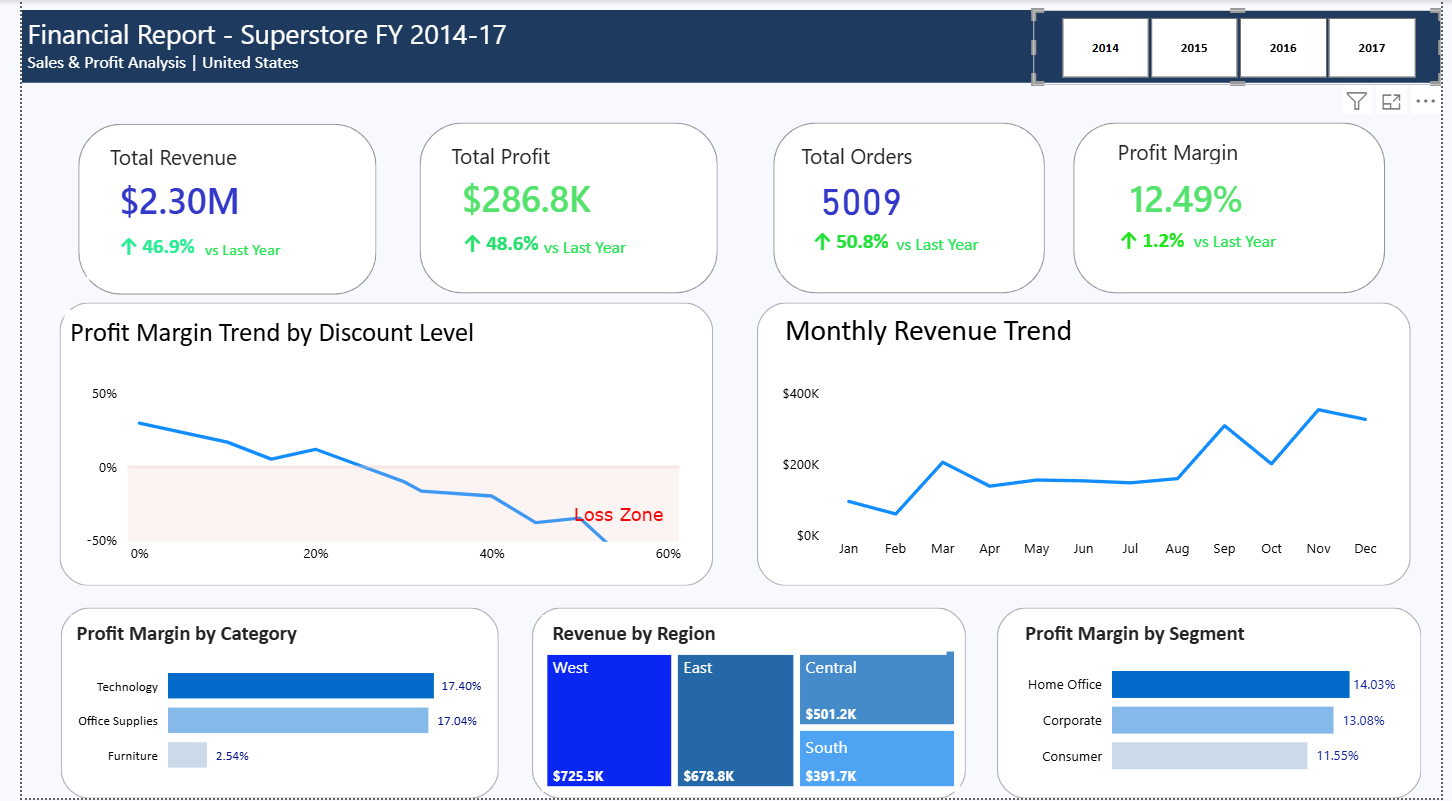

Layout of this report page (visuals, bound fields, positions):
{"tool":"powerbi","page":{"name":"Page 1","canvas":[1280,720],"ordinal":0},"visuals":[{"type":"textbox","box":[0,9,1280.4,65.4],"z":0},{"type":"shape","box":[358.6,110.5,269,154.1],"z":0,"group":"g2"},{"type":"shape","box":[677.1,110.5,245,154.1],"z":0,"group":"g4"},{"type":"shape","box":[948,110.5,281.3,154.1],"z":0,"group":"g3"},{"type":"shape","box":[50.8,111.6,269,154.1],"z":0,"group":"g1"},{"type":"shape","box":[33.7,272.8,589.4,255.6],"z":0,"group":"g6"},{"type":"shape","box":[662.9,272.8,589.4,255.6],"z":0,"group":"g5"},{"type":"slicer","title":"Year","fields":{"Values":["date_table.Year"]},"box":[1169,10.1,110.5,67.4],"z":1000,"group":"g7"},{"type":"textbox","box":[983.1,120.1,195.7,52.6],"z":1000,"group":"g3"},{"type":"textbox","box":[381.8,122.7,195.7,52.6],"z":1000,"group":"g2"},{"type":"textbox","box":[698.2,122.7,178.2,52.6],"z":1000,"group":"g4"},{"type":"textbox","box":[74,123.8,195.7,52.6],"z":1000,"group":"g1"},{"type":"group","id":"g1","title":"Group 1","box":[50.8,111.6,269.4,153.3],"z":5000},{"type":"group","id":"g2","title":"Group 1","box":[358.6,110.5,269,154.1],"z":6000},{"type":"lineChart","title":"Monthly Revenue Trend","fields":{"Category":["Sample - Superstore.Discount"],"Y":["Measure.Profit_margin%"]},"box":[52.3,340.4,546.6,177.3],"z":6000,"group":"g6"},{"type":"lineChart","title":"Monthly Revenue Trend","fields":{"Category":["date_table.Month_name"],"Y":["Measure.Total_Revenue"]},"box":[680.4,340.7,552.7,172.4],"z":6000,"group":"g5"},{"type":"group","id":"g3","title":"Group 1","box":[948,110.5,281.3,154.1],"z":7000},{"type":"group","id":"g4","title":"Group 1","box":[661.7,110.5,260.3,154.1],"z":8000},{"type":"group","id":"g5","title":"Group 2","box":[662.9,272.8,589.4,255.6],"z":9000},{"type":"cardVisual","fields":{"Data":["Measure.Profit_margin% KPI Text"]},"box":[960.8,184.9,131.4,61.6],"z":9500,"group":"g3"},{"type":"cardVisual","fields":{"Data":["Measure.order% KPI Text"]},"box":[683.8,186.1,137.2,61.6],"z":9500,"group":"g4"},{"type":"cardVisual","fields":{"Data":["Measure.Profit% KPI Text"]},"box":[368.4,188.8,150.4,61.1],"z":9500,"group":"g2"},{"type":"cardVisual","fields":{"Data":["Measure.Profit KPI Text"]},"box":[58.9,190.7,151.2,61.6],"z":9500,"group":"g1"},{"type":"group","id":"g6","title":"Group 2","box":[33.7,272.8,589.4,255.6],"z":10000},{"type":"textbox","box":[493,448.8,103.5,30.2],"z":11000},{"type":"cardVisual","fields":{"Data":["Measure.Profit_margin%"]},"box":[956.2,143.3,188.3,68.5],"z":12000,"group":"g3"},{"type":"cardVisual","fields":{"Data":["Measure.Total_Profit"]},"box":[361,143.5,188.3,68.5],"z":12000,"group":"g2"},{"type":"cardVisual","fields":{"Data":["Measure.Total_Revenue"]},"box":[58.1,145.8,188.3,68.5],"z":12000,"group":"g1"},{"type":"card","fields":{"Values":["Measure.Total_order"]},"box":[661.7,148.3,189.5,61.1],"z":12000,"group":"g4"},{"type":"shape","box":[35.5,547.8,395,172.4],"z":12000},{"type":"textbox","box":[1051.5,202.4,108.1,33.7],"z":13000,"group":"g3"},{"type":"textbox","box":[784,204.7,105.2,37.9],"z":13000,"group":"g4"},{"type":"textbox","box":[466.2,208.3,107.6,34.2],"z":13000,"group":"g2"},{"type":"textbox","box":[159.6,210.6,107.6,34.2],"z":13000,"group":"g1"},{"type":"shape","box":[459.8,547.6,391.3,172.4],"z":13000},{"type":"shape","box":[879.2,547.8,382.7,172.4],"z":14000},{"type":"barChart","fields":{"Category":["Sample - Superstore.Category"],"Y":["Measure.Profit_margin%"]},"box":[42.8,582.1,376.6,129.6],"z":14001},{"type":"textbox","box":[683.4,276.4,292.3,55],"z":14002,"group":"g5"},{"type":"textbox","box":[37.9,280,393.8,41.6],"z":14002},{"type":"treemap","fields":{"Group":["Sample - Superstore.Region"],"Values":["Measure.Total_Revenue"]},"box":[468.6,582.6,376.7,131.4],"z":14003},{"type":"barChart","fields":{"Category":["Sample - Superstore.Segment"],"Y":["Measure.Profit_margin%"]},"box":[896.5,579.1,347.7,133.7],"z":14004},{"type":"textbox","box":[900,554.7,300,36],"z":14005},{"type":"textbox","box":[44.2,554.7,300,36],"z":14006},{"type":"textbox","box":[468.6,554.7,365.1,36],"z":14007},{"type":"slicer","title":"State","fields":{"Values":["Sample - Superstore.State"]},"box":[1057.4,10.1,111.6,67.4],"z":14008,"group":"g7"},{"type":"group","id":"g7","title":"Group 3","box":[1057.4,10.1,222.1,67.4],"z":14009}]}

Visuals, with their boxes in screenshot pixels (x1, y1, x2, y2), scaled from the page's 1280x720 canvas onto the 1452x801 screenshot:
textbox: 0/10/1451/83
shape: 407/123/712/294
shape: 768/123/1046/294
shape: 1075/123/1394/294
shape: 58/124/363/296
shape: 38/303/707/588
shape: 752/303/1421/588
"Year" slicer: 1326/11/1451/86
textbox: 1115/134/1337/192
textbox: 433/137/655/195
textbox: 792/137/994/195
textbox: 84/138/306/196
"Group 1" group: 58/124/363/295
"Group 1" group: 407/123/712/294
"Monthly Revenue Trend" lineChart: 59/379/679/576
"Monthly Revenue Trend" lineChart: 772/379/1399/571
"Group 1" group: 1075/123/1394/294
"Group 1" group: 751/123/1046/294
"Group 2" group: 752/303/1421/588
cardVisual - Measure.Profit_margin% KPI Text: 1090/206/1239/274
cardVisual - Measure.order% KPI Text: 776/207/931/276
cardVisual - Measure.Profit% KPI Text: 418/210/589/278
cardVisual - Measure.Profit KPI Text: 67/212/238/281
"Group 2" group: 38/303/707/588
textbox: 559/499/677/533
cardVisual - Measure.Profit_margin%: 1085/159/1298/236
cardVisual - Measure.Total_Profit: 410/160/623/236
cardVisual - Measure.Total_Revenue: 66/162/280/238
card - Measure.Total_order: 751/165/966/233
shape: 40/609/488/800
textbox: 1193/225/1315/263
textbox: 889/228/1009/270
textbox: 529/232/651/270
textbox: 181/234/303/272
shape: 522/609/965/800
shape: 997/609/1431/800
barChart - Sample - Superstore.Category x Measure.Profit_margin%: 49/648/476/792
textbox: 775/307/1107/369
textbox: 43/312/490/358
treemap - Sample - Superstore.Region x Measure.Total_Revenue: 532/648/959/794
barChart - Sample - Superstore.Segment x Measure.Profit_margin%: 1017/644/1411/793
textbox: 1021/617/1361/657
textbox: 50/617/390/657
textbox: 532/617/946/657
"State" slicer: 1199/11/1326/86
"Group 3" group: 1199/11/1451/86
